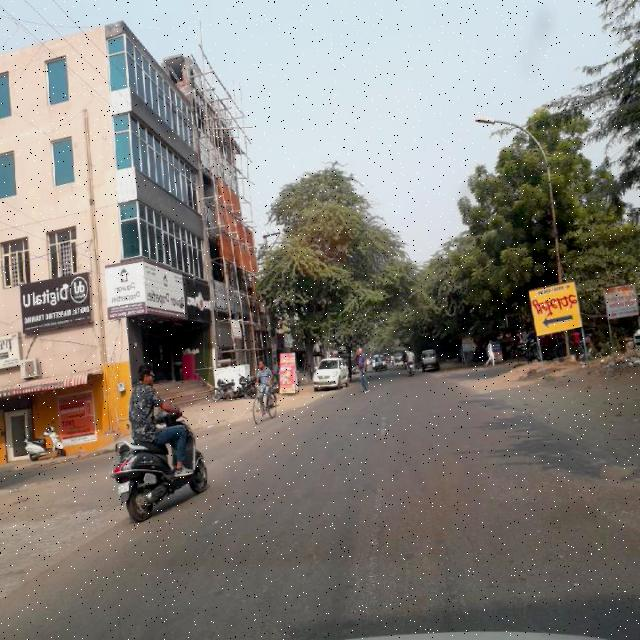D44: (361, 480, 392, 611)
